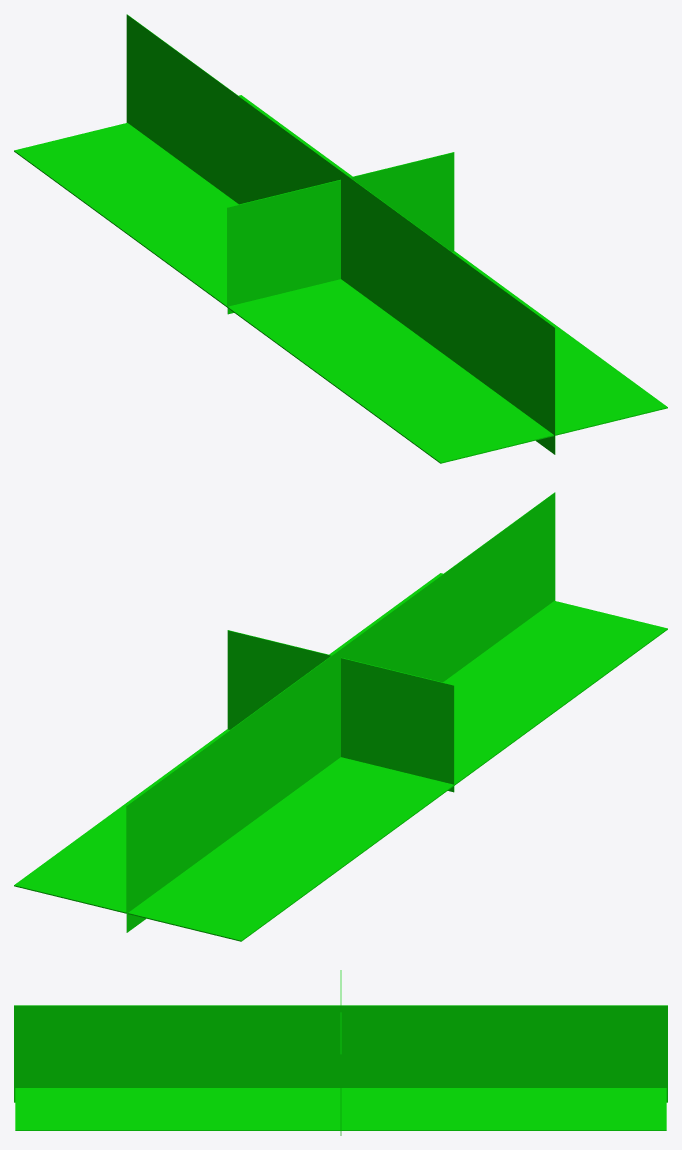
File: keyboard reference box.glb
The picture shows the model from 3 angles, top to bottom: view 1: azimuth 30°, elevation 25°; view 2: azimuth 150°, elevation 25°; view 3: azimuth 270°, elevation 25°; orthographic projection. The views are drawn at different scales.
Visible parts, largest first — view 1: Cube; view 2: Cube; view 3: Cube.
Part boxes in pixels (x1,y1,x2,y2): Cube: (14,14,667,463); Cube: (14,492,667,941); Cube: (14,970,667,1135).
Size of the model in its own units: 5.54 by 2.96 by 18.08.
